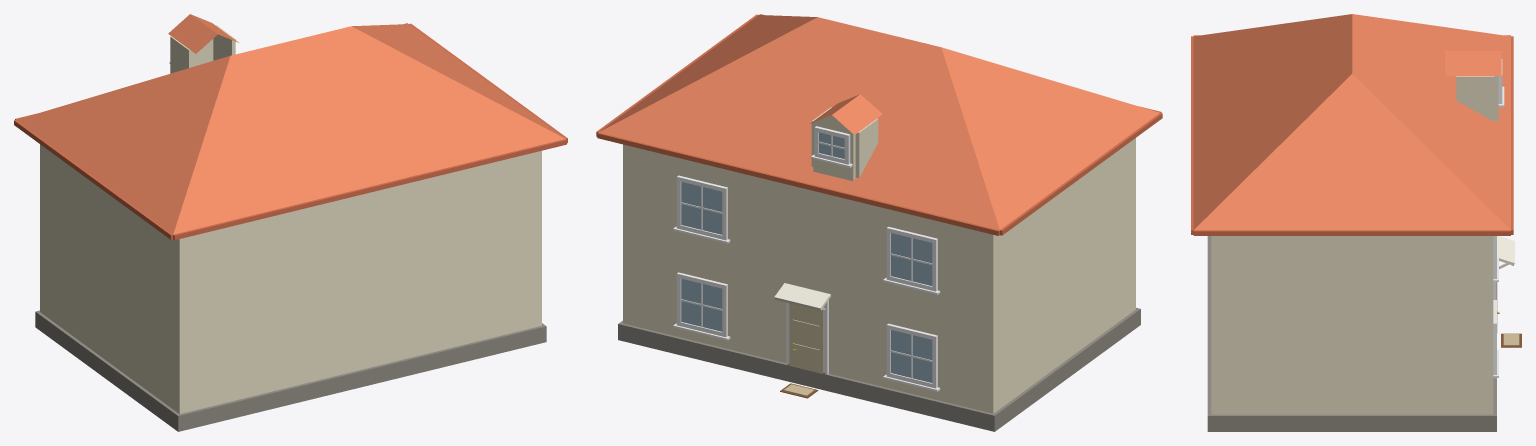
File: qa_wide_facade2.glb
The picture shows the model from 3 angles, left to right: view 1: azimuth 30°, elevation 25°; view 2: azimuth 150°, elevation 25°; view 3: azimuth 270°, elevation 25°; orthographic projection. The views are drawn at different scales.
Visible parts, largest first — view 1: House_Body, House_Roof, House_Dormer; view 2: House_Body, House_Roof, House_Windows, House_Dormer, House_Door, House_Awning; view 3: House_Roof, House_Body, House_Dormer, House_Windows, House_Awning.
Boxes of the visible parts, bbox=[...] form: House_Body: bbox=[35, 144, 546, 431]; House_Roof: bbox=[14, 23, 567, 240]; House_Dormer: bbox=[168, 14, 238, 73]; House_Body: bbox=[618, 138, 1140, 431]; House_Roof: bbox=[596, 14, 1162, 235]; House_Windows: bbox=[673, 126, 940, 391]; House_Dormer: bbox=[810, 94, 882, 181]; House_Door: bbox=[786, 300, 828, 374]; House_Awning: bbox=[774, 283, 830, 310]; House_Roof: bbox=[1191, 14, 1513, 235]; House_Body: bbox=[1207, 236, 1496, 431]; House_Dormer: bbox=[1445, 51, 1501, 122]; House_Windows: bbox=[1493, 59, 1504, 377]; House_Awning: bbox=[1497, 236, 1514, 269].
Bounding box in the file's own units: 13.15 × 9.3 × 9.39.
